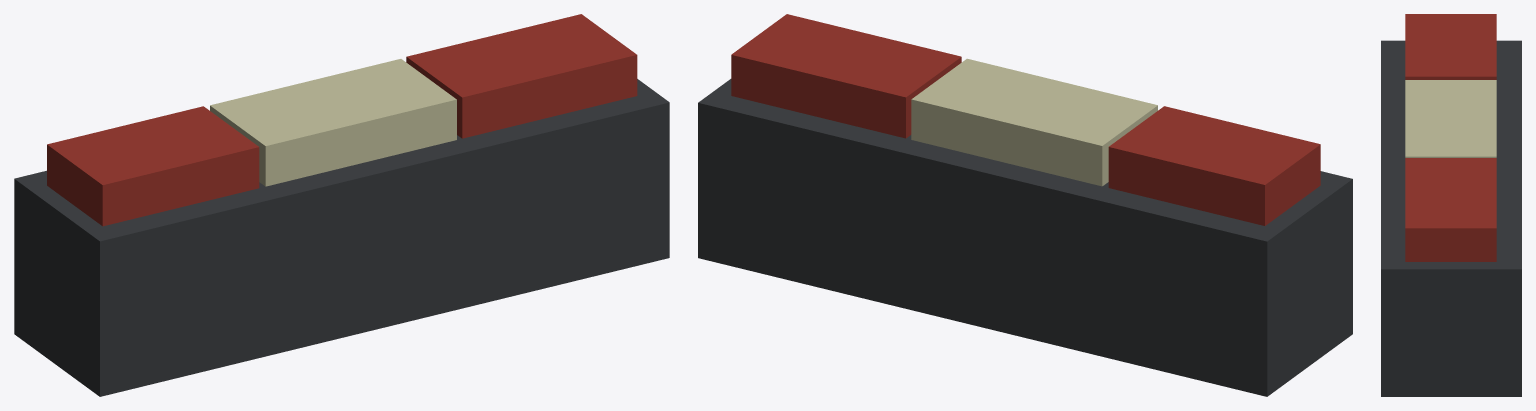
The model's file is buton2.fbx.
The picture shows the model from 3 angles, left to right: view 1: azimuth 30°, elevation 25°; view 2: azimuth 150°, elevation 25°; view 3: azimuth 270°, elevation 25°; orthographic projection. The views are drawn at different scales.
Parts seen in each view (by area): view 1: SM_Prop_Button_02, SM_Prop_Button_01.004, SM_Prop_Button_01.006, SM_Prop_Button_01.005; view 2: SM_Prop_Button_02, SM_Prop_Button_01.004, SM_Prop_Button_01.005, SM_Prop_Button_01.006; view 3: SM_Prop_Button_02, SM_Prop_Button_01.006, SM_Prop_Button_01.004, SM_Prop_Button_01.005.
Part boxes in pixels (bbox=[...]): SM_Prop_Button_02: bbox=[14, 79, 669, 396]; SM_Prop_Button_01.004: bbox=[210, 59, 456, 186]; SM_Prop_Button_01.006: bbox=[406, 14, 637, 138]; SM_Prop_Button_01.005: bbox=[47, 106, 259, 226]; SM_Prop_Button_02: bbox=[698, 79, 1352, 396]; SM_Prop_Button_01.004: bbox=[911, 58, 1157, 186]; SM_Prop_Button_01.005: bbox=[1108, 106, 1320, 225]; SM_Prop_Button_01.006: bbox=[731, 14, 961, 138]; SM_Prop_Button_02: bbox=[1381, 40, 1521, 396]; SM_Prop_Button_01.006: bbox=[1405, 158, 1496, 261]; SM_Prop_Button_01.004: bbox=[1405, 80, 1496, 157]; SM_Prop_Button_01.005: bbox=[1405, 14, 1496, 79].
Size of the model in its own units: 47.8 by 15.77 by 12.47.
